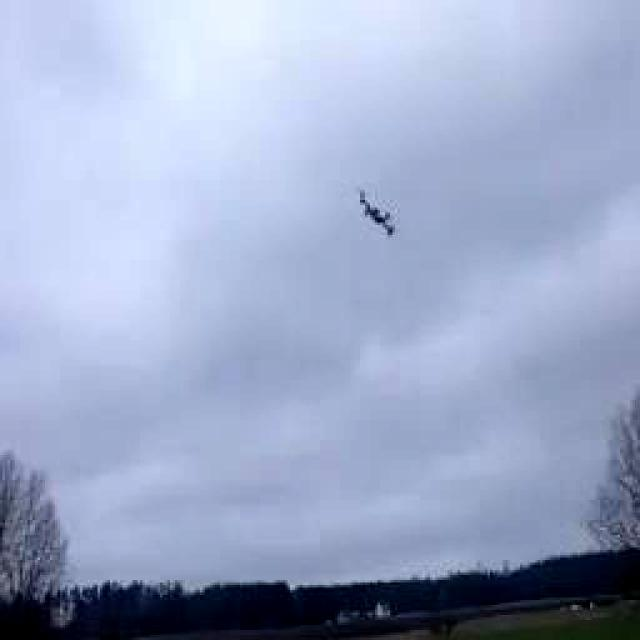bird: (335, 182, 415, 245)
